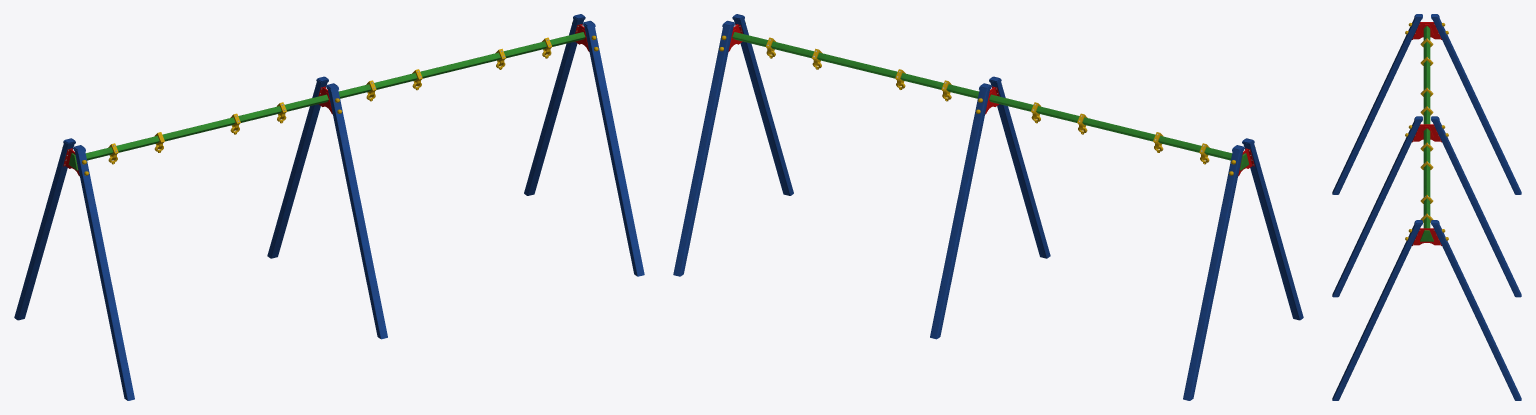
Rendered from SwingBase.fbx.
The picture shows the model from 3 angles, left to right: view 1: azimuth 30°, elevation 25°; view 2: azimuth 150°, elevation 25°; view 3: azimuth 270°, elevation 25°; orthographic projection. The views are drawn at different scales.
Visible parts, largest first — view 1: SwingBase; view 2: SwingBase; view 3: SwingBase.
Boxes of the visible parts, bbox=[...] form: SwingBase: bbox=[14, 14, 644, 400]; SwingBase: bbox=[673, 14, 1303, 400]; SwingBase: bbox=[1332, 14, 1521, 400].
Bounding box in the file's own units: 774 × 306 × 295.
Materials: 1 (1 with a texture image).
